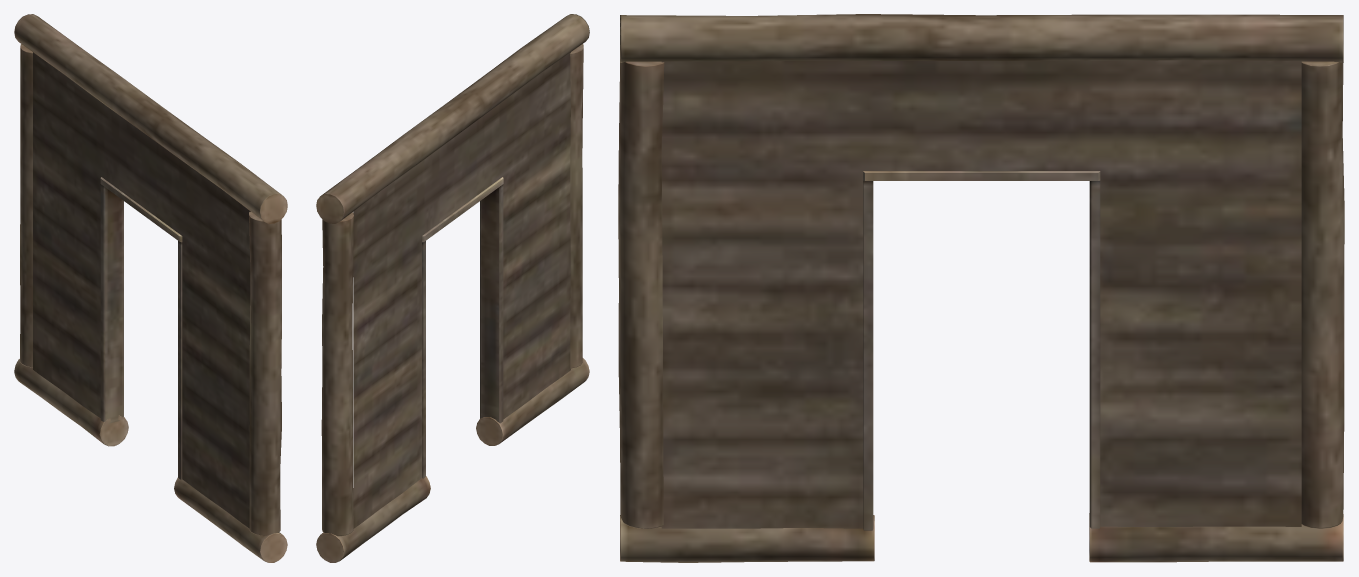
Rendered from SM_Doorbase_Wood_bddb41.glb.
3 renders of one model, left to right at view 1: azimuth 30°, elevation 25°; view 2: azimuth 150°, elevation 25°; view 3: azimuth 270°, elevation 25°, orthographic. The views are drawn at different scales.
Size of the model in its own units: 0.2747 by 3.32 by 4.03.
Materials: 1 (1 with a texture image).
